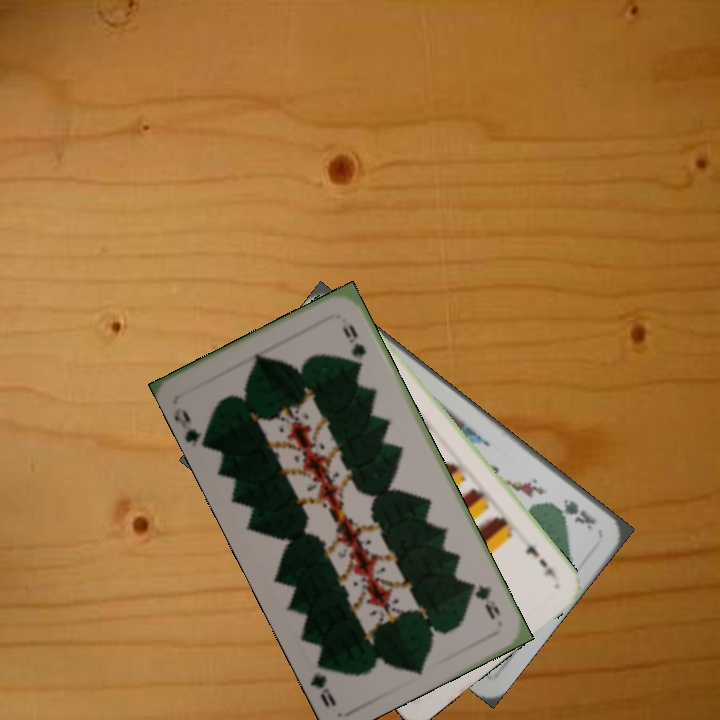E7: (521, 541, 559, 584)
G9: (170, 403, 210, 450), (465, 577, 504, 622)
GK: (547, 494, 599, 532)
